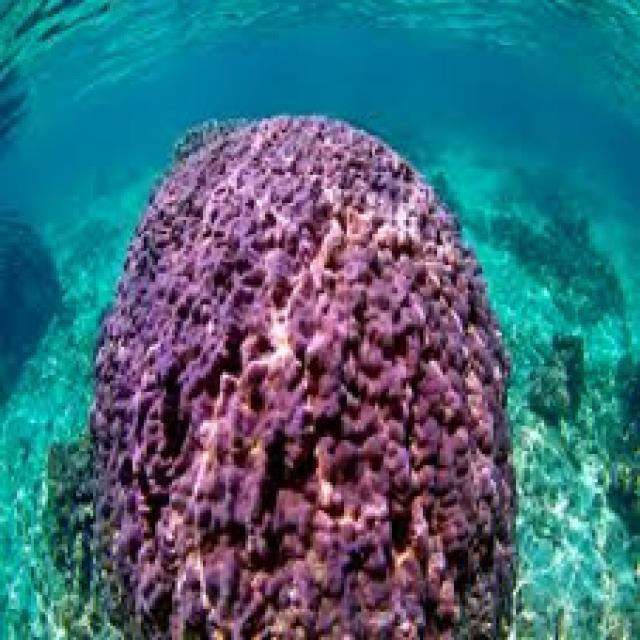Healthy: (100, 340, 509, 640), (122, 118, 490, 331)
